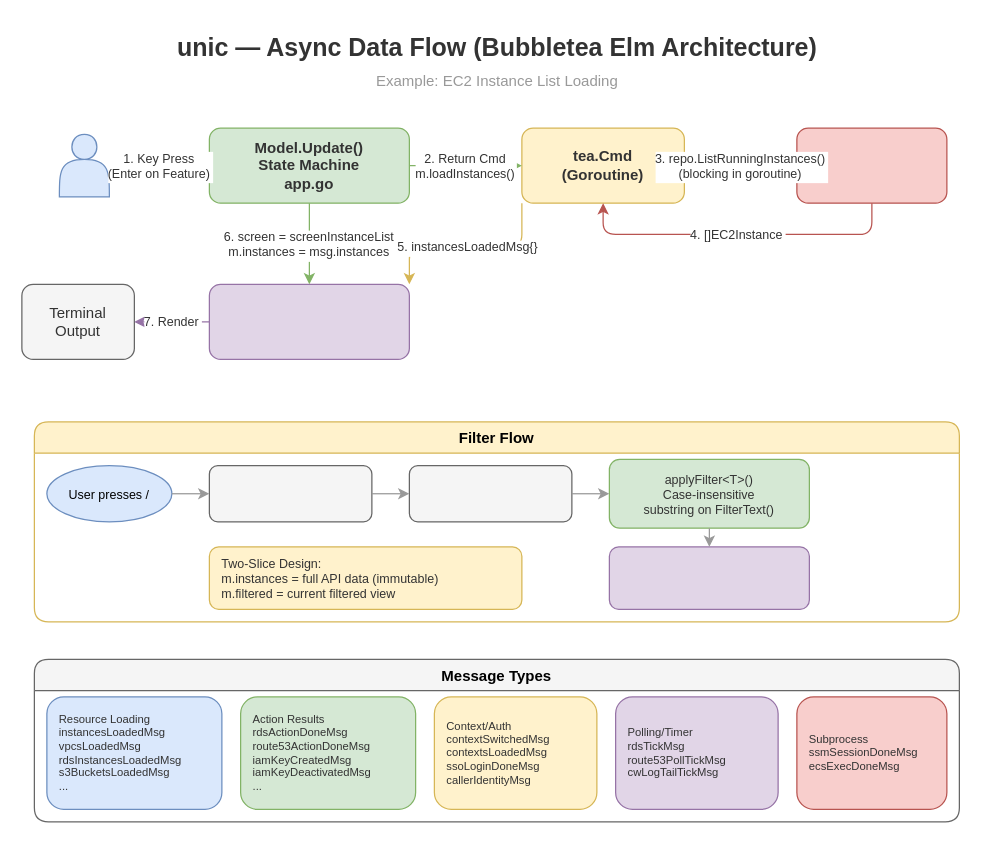
The diagram is 981 pixels wide and 844 high, and some of its shapes have lost their labels. Each missing label, with the centre of its shape:
"AWS API (SDK v2)" goes at [871,165].
"Each keystroke: handleFilterKey()" goes at [490,493].
"filterActive = true Show filter input" goes at [290,493].
"m.filtered = result m.instIdx = 0 Re-render view" goes at [708,577].
"Model.View() Render TUI screen_*.go" goes at [308,321].
"User" goes at [83,165].
